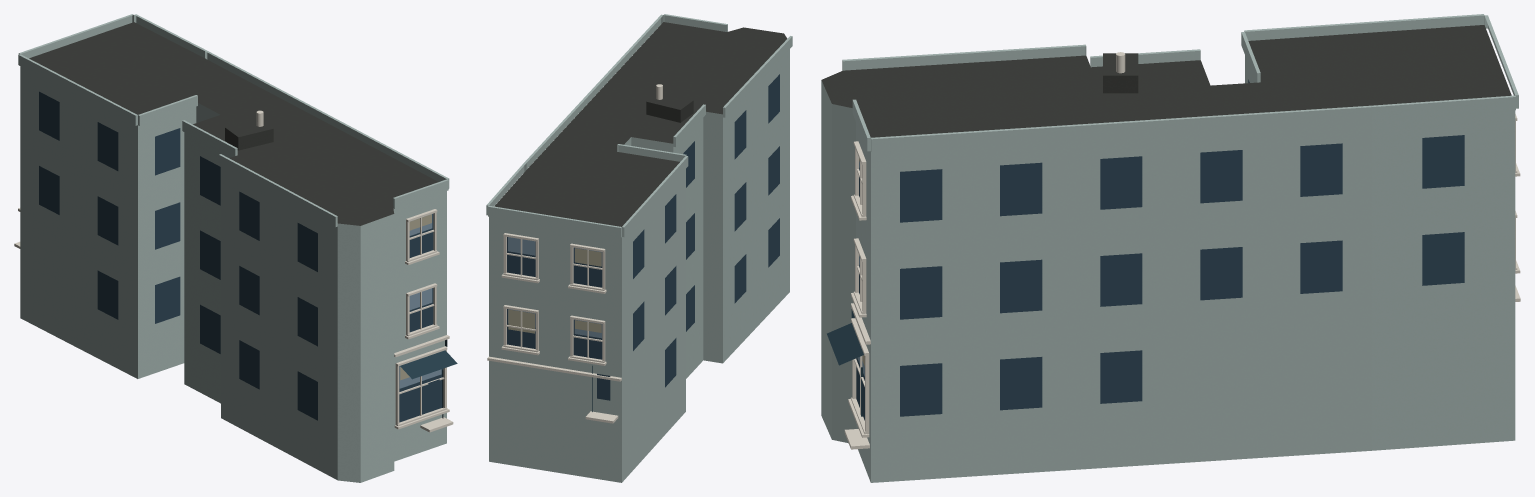
The picture shows the model from 3 angles, left to right: view 1: azimuth 30°, elevation 25°; view 2: azimuth 150°, elevation 25°; view 3: azimuth 270°, elevation 25°; orthographic projection. The views are drawn at different scales.
Visible parts, largest first — view 1: Footprint 0 / surface 2, Footprint 0 / surface 1, Inset glazing, Facade bay volumes, Cornices and window frames, Storefronts and doors, Sky reflection panels, Inferred rooftop service enclosure / surface 5; view 2: Footprint 0 / surface 2, Footprint 0 / surface 1, Inset glazing, Facade bay volumes, Cornices and window frames, Interior blind variation, Sky reflection panels, Inferred rooftop service enclosure / surface 6, Inferred rooftop service enclosure / surface 3; view 3: Footprint 0 / surface 2, Footprint 0 / surface 1, Inset glazing, Facade bay volumes, Cornices and window frames, Storefronts and doors.
Boxes of the visible parts, left/top/right/bottom form: Footprint 0 / surface 2: left=20, top=66, right=446, bottom=482; Footprint 0 / surface 1: left=29, top=22, right=438, bottom=225; Inset glazing: left=39, top=91, right=443, bottom=422; Facade bay volumes: left=18, top=14, right=449, bottom=226; Cornices and window frames: left=14, top=208, right=453, bottom=432; Storefronts and doors: left=400, top=339, right=457, bottom=418; Sky reflection panels: left=399, top=214, right=441, bottom=388; Inferred rooftop service enclosure / surface 5: left=238, top=129, right=273, bottom=150; Footprint 0 / surface 2: left=489, top=49, right=789, bottom=482; Footprint 0 / surface 1: left=494, top=22, right=787, bottom=226; Inset glazing: left=507, top=74, right=779, bottom=400; Facade bay volumes: left=486, top=14, right=792, bottom=237; Cornices and window frames: left=487, top=233, right=621, bottom=423; Interior blind variation: left=508, top=248, right=601, bottom=333; Sky reflection panels: left=508, top=237, right=601, bottom=338; Inferred rooftop service enclosure / surface 6: left=646, top=101, right=680, bottom=122; Inferred rooftop service enclosure / surface 3: left=647, top=93, right=693, bottom=109; Footprint 0 / surface 2: left=821, top=55, right=1515, bottom=482; Footprint 0 / surface 1: left=821, top=25, right=1511, bottom=137; Inset glazing: left=856, top=79, right=1464, bottom=420; Facade bay volumes: left=842, top=14, right=1518, bottom=152; Cornices and window frames: left=844, top=114, right=1520, bottom=449; Storefronts and doors: left=827, top=309, right=863, bottom=416.
Bounding box in the file's own units: 10.04 × 13.85 × 23.68.
